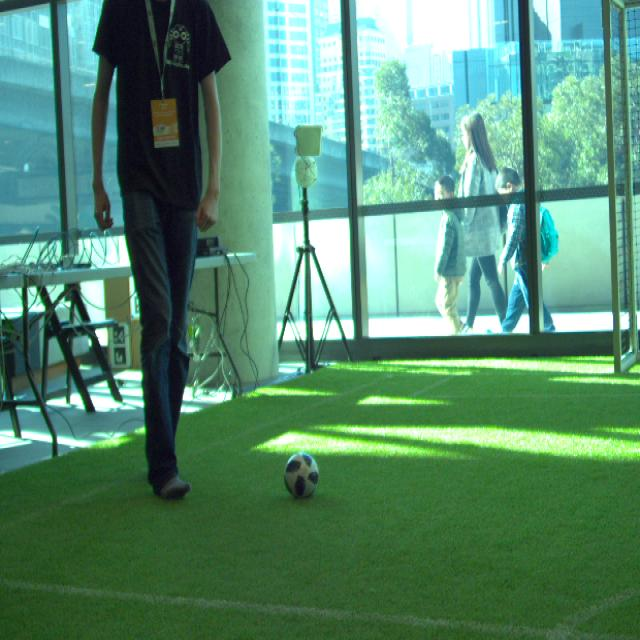ball: (284, 452, 320, 501)
goalpost: (601, 0, 621, 372)
